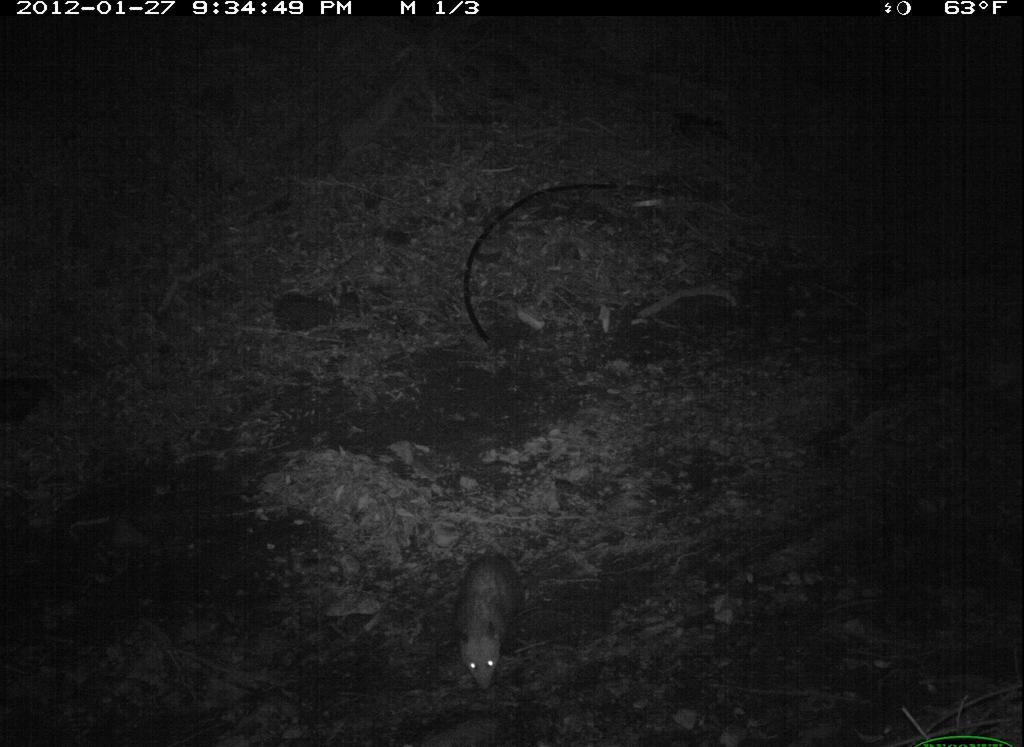opossum: (443, 539, 537, 699)
